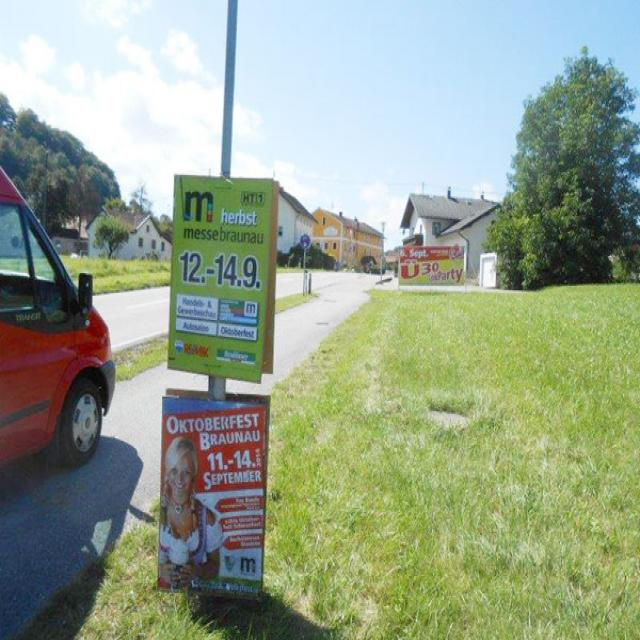Werbetafel frei: (169, 176, 278, 384), (159, 395, 267, 599), (398, 243, 468, 290)
